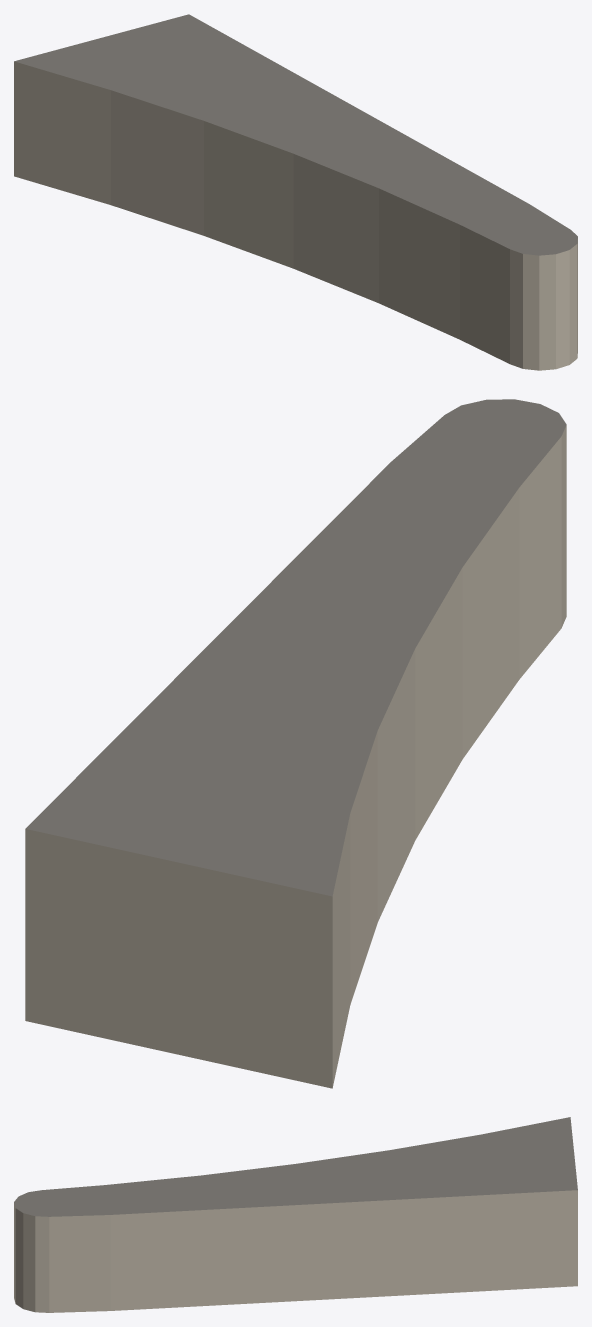
3 views of the same model, one above another, from view 1: azimuth 30°, elevation 25°; view 2: azimuth 150°, elevation 25°; view 3: azimuth 270°, elevation 25° (orthographic). The views are drawn at different scales.
Parts seen in each view (by area): view 1: HP-w859488826; view 2: HP-w859488826; view 3: HP-w859488826.
Part boxes in pixels (<box>): HP-w859488826: <box>14,14,577,370</box>; HP-w859488826: <box>25,399,566,1088</box>; HP-w859488826: <box>14,1117,577,1312</box>.
Size of the model in its own units: 40.12 by 18 by 95.75.
